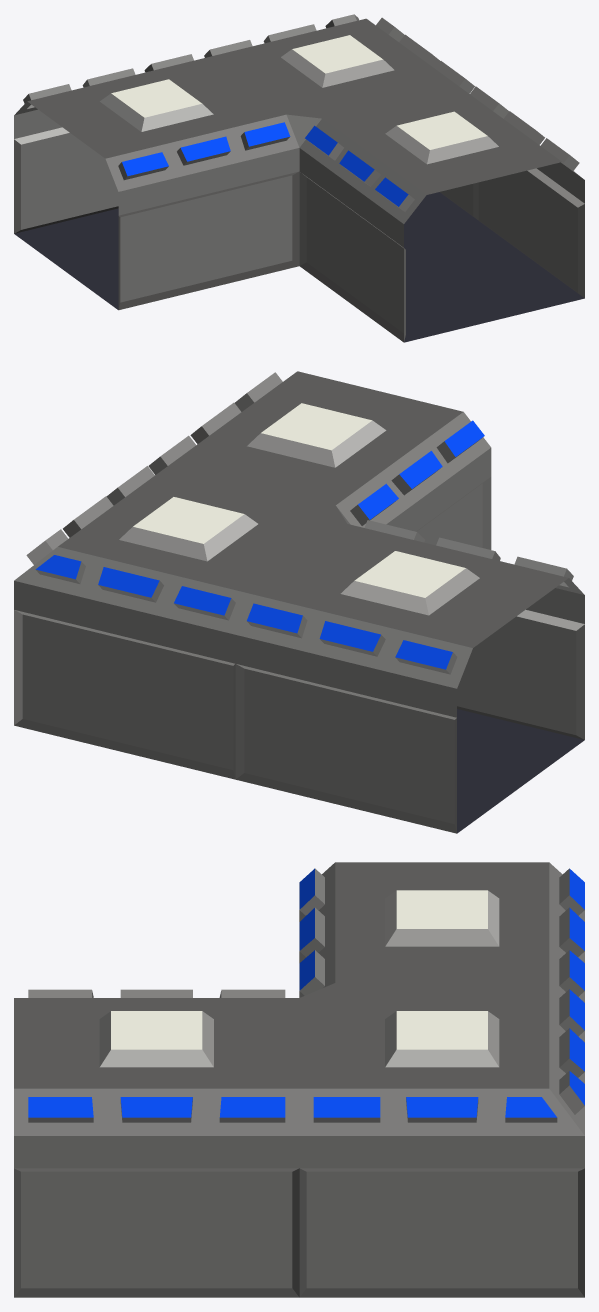
The model's file is turn.fbx.
3 renders of one model, top to bottom at view 1: azimuth 30°, elevation 25°; view 2: azimuth 150°, elevation 25°; view 3: azimuth 270°, elevation 25°, orthographic. The views are drawn at different scales.
Visible parts, largest first — view 1: turn3; view 2: turn3; view 3: turn3.
Boxes of the visible parts, x1=… form: turn3: x1=14, y1=14, x2=584, y2=342; turn3: x1=14, y1=371, x2=584, y2=833; turn3: x1=14, y1=862, x2=584, y2=1297.
Bounding box in the file's own units: 8 × 3.2 × 8.
